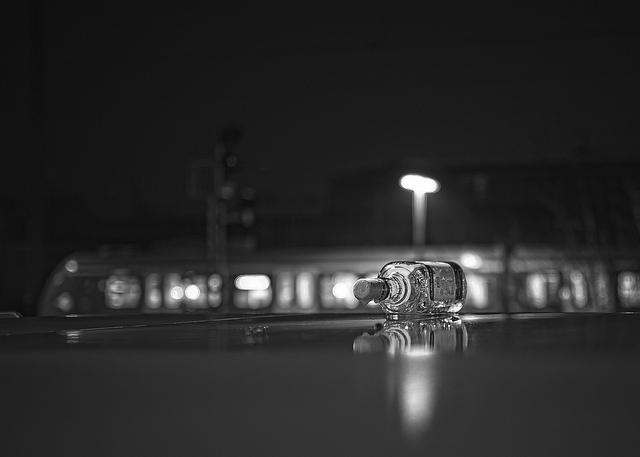Train: (36, 241, 640, 321)
